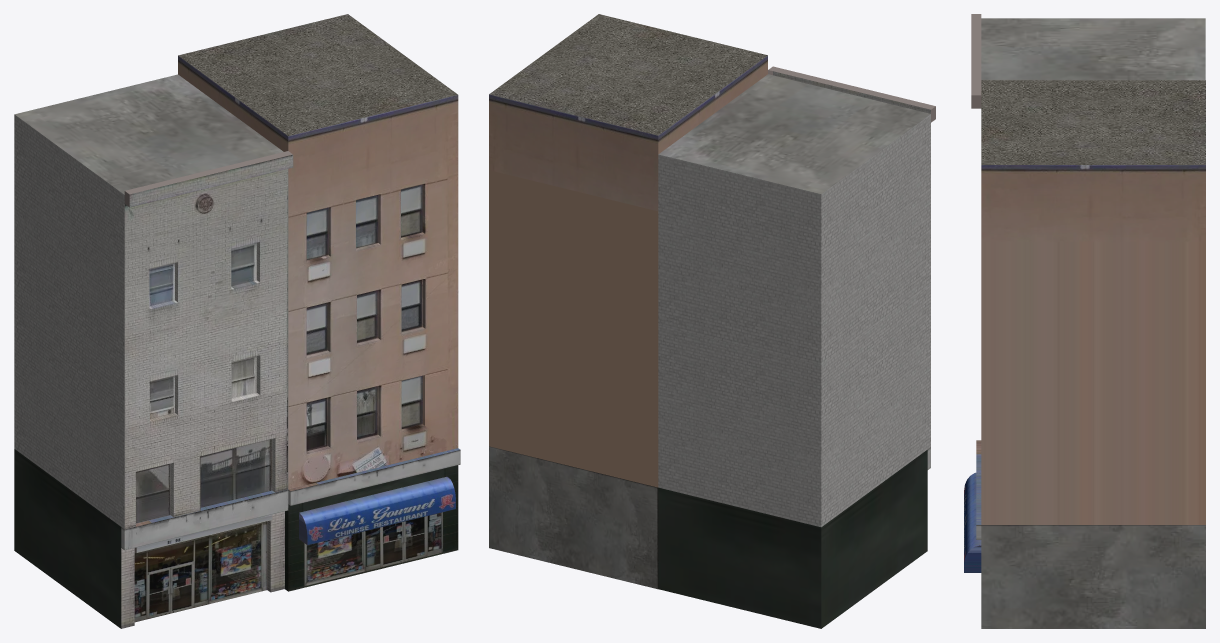
File: nyc_bronx_buildings.glb
3 renders of one model, left to right at view 1: azimuth 30°, elevation 25°; view 2: azimuth 150°, elevation 25°; view 3: azimuth 270°, elevation 25°, orthographic. The views are drawn at different scales.
Visible parts, largest first — view 1: Object_4; view 2: Object_4; view 3: Object_4.
Boxes of the visible parts, box(x1,y1,x2,y2) form: Object_4: box(14, 14, 460, 628); Object_4: box(489, 14, 935, 628); Object_4: box(964, 14, 1205, 628).
Bounding box in the file's own units: 68.38 × 89.22 × 42.12.
1 material, 1 textured.
